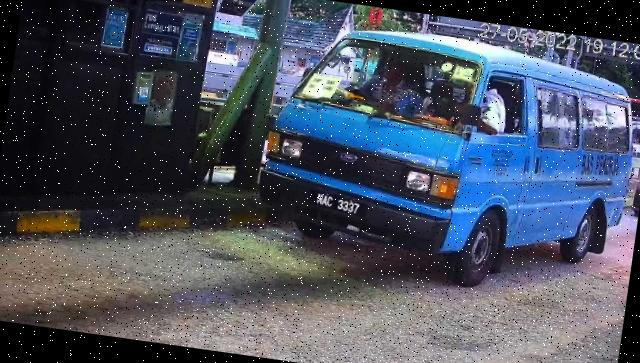License_Plate: (309, 188, 368, 221)
van: (249, 12, 640, 307)
